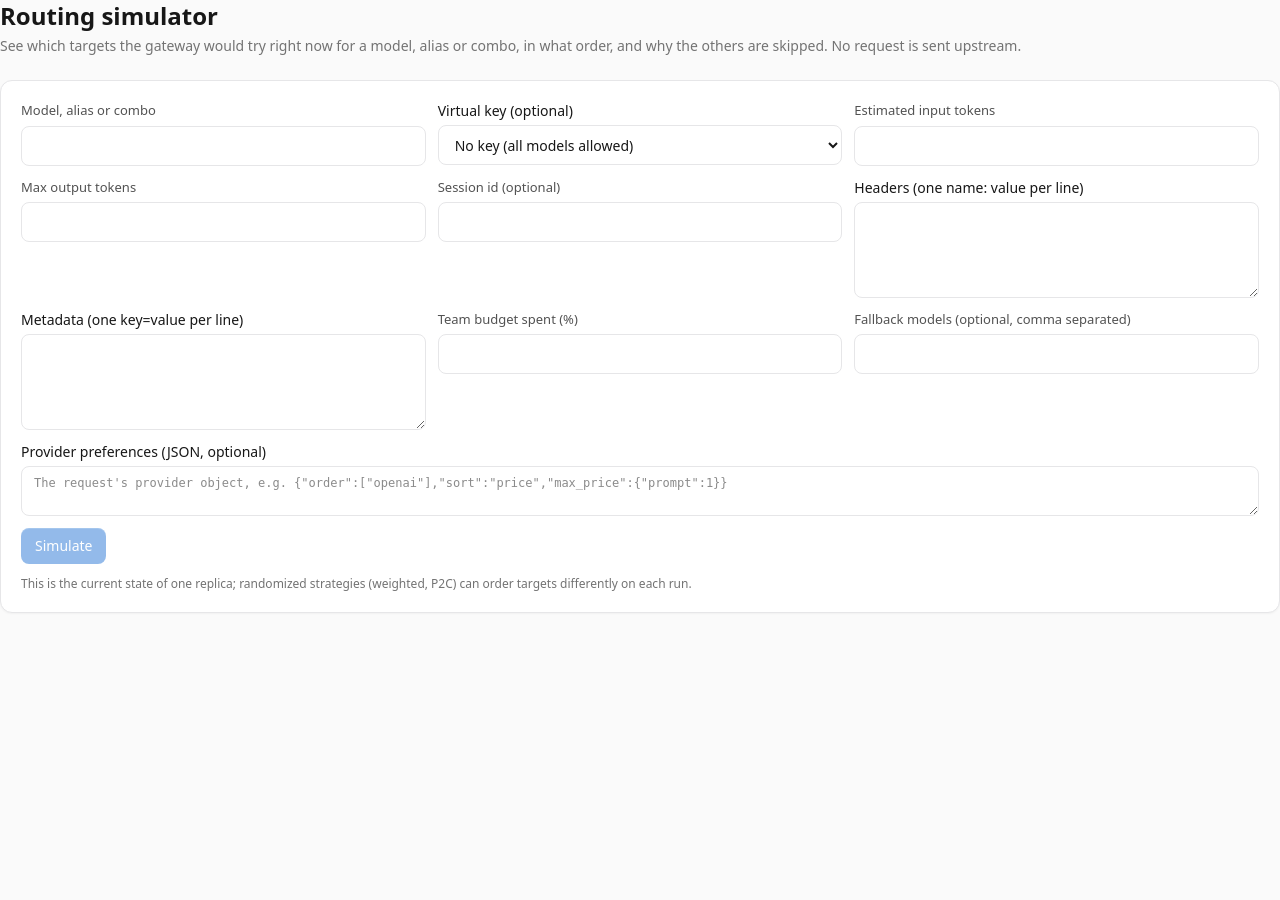
Test case: routing simulator strategies (card 25.4) › formats the cost signal
In the field labelled "Model, alias or combo": {"x": 223, "y": 146} [21,126,426,166], type "x"
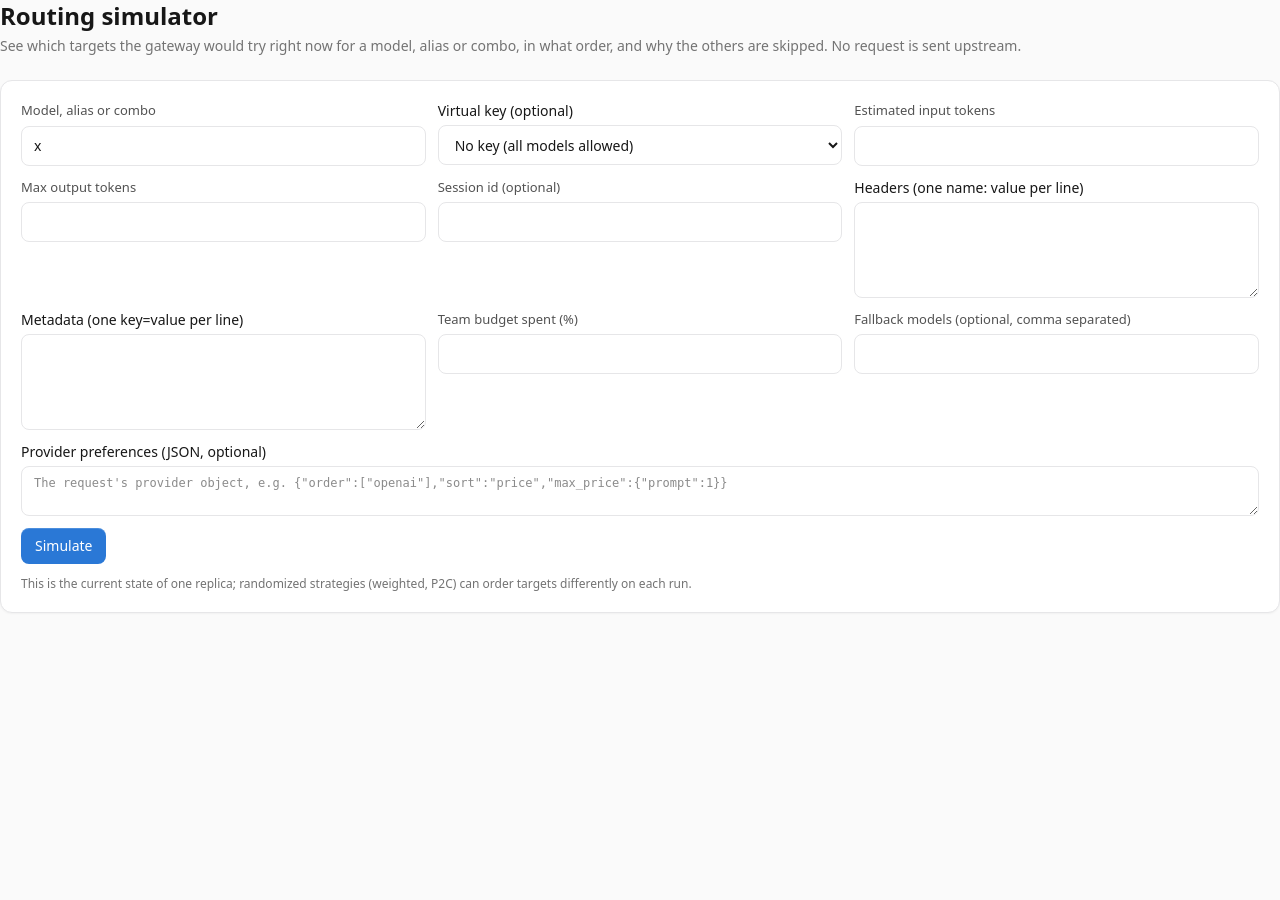
Click the button "Simulate": {"x": 64, "y": 546} [21,528,106,564]
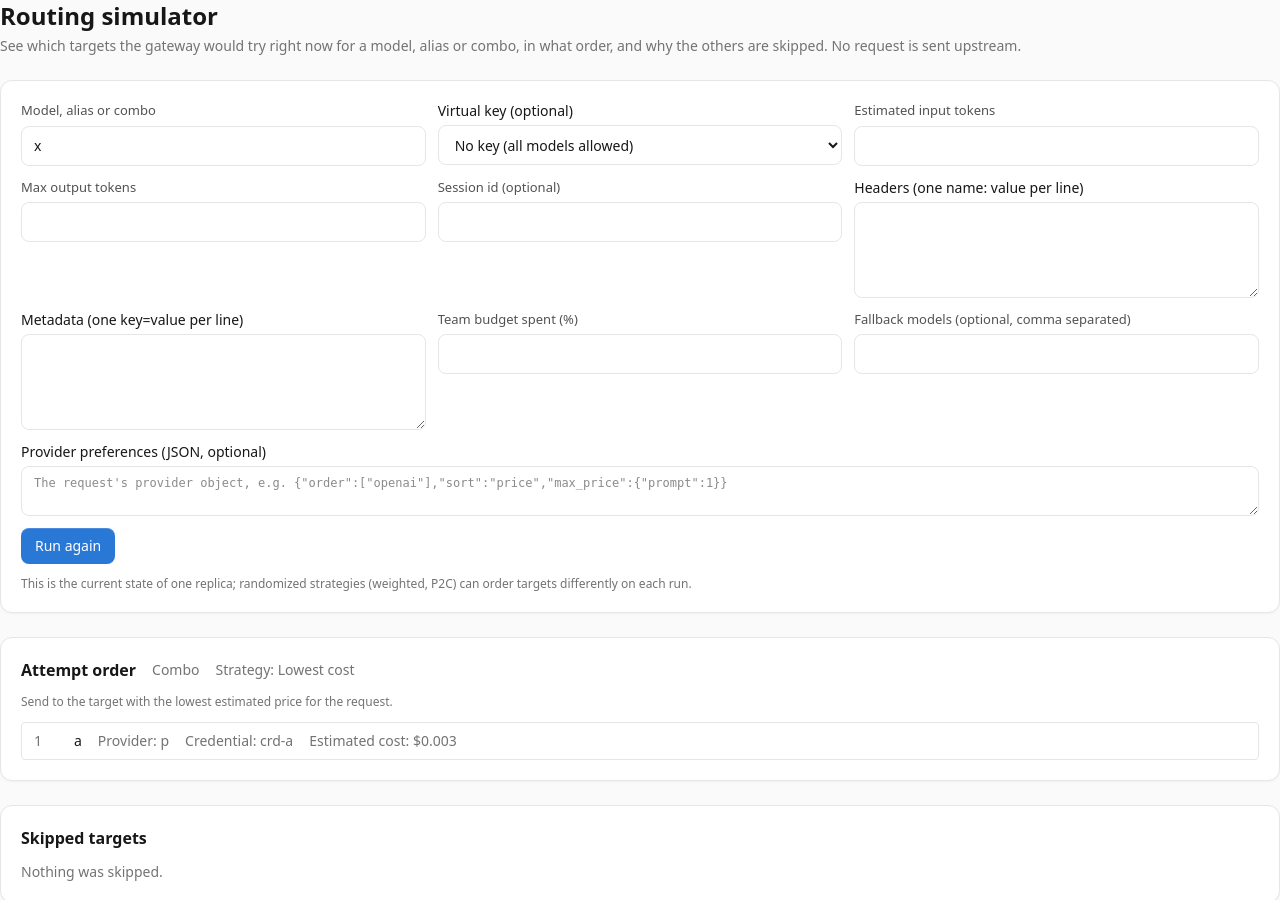
Result: the element with test id "simulator-signal" reads "Estimated cost: $0.003" at [309,731,457,751]
